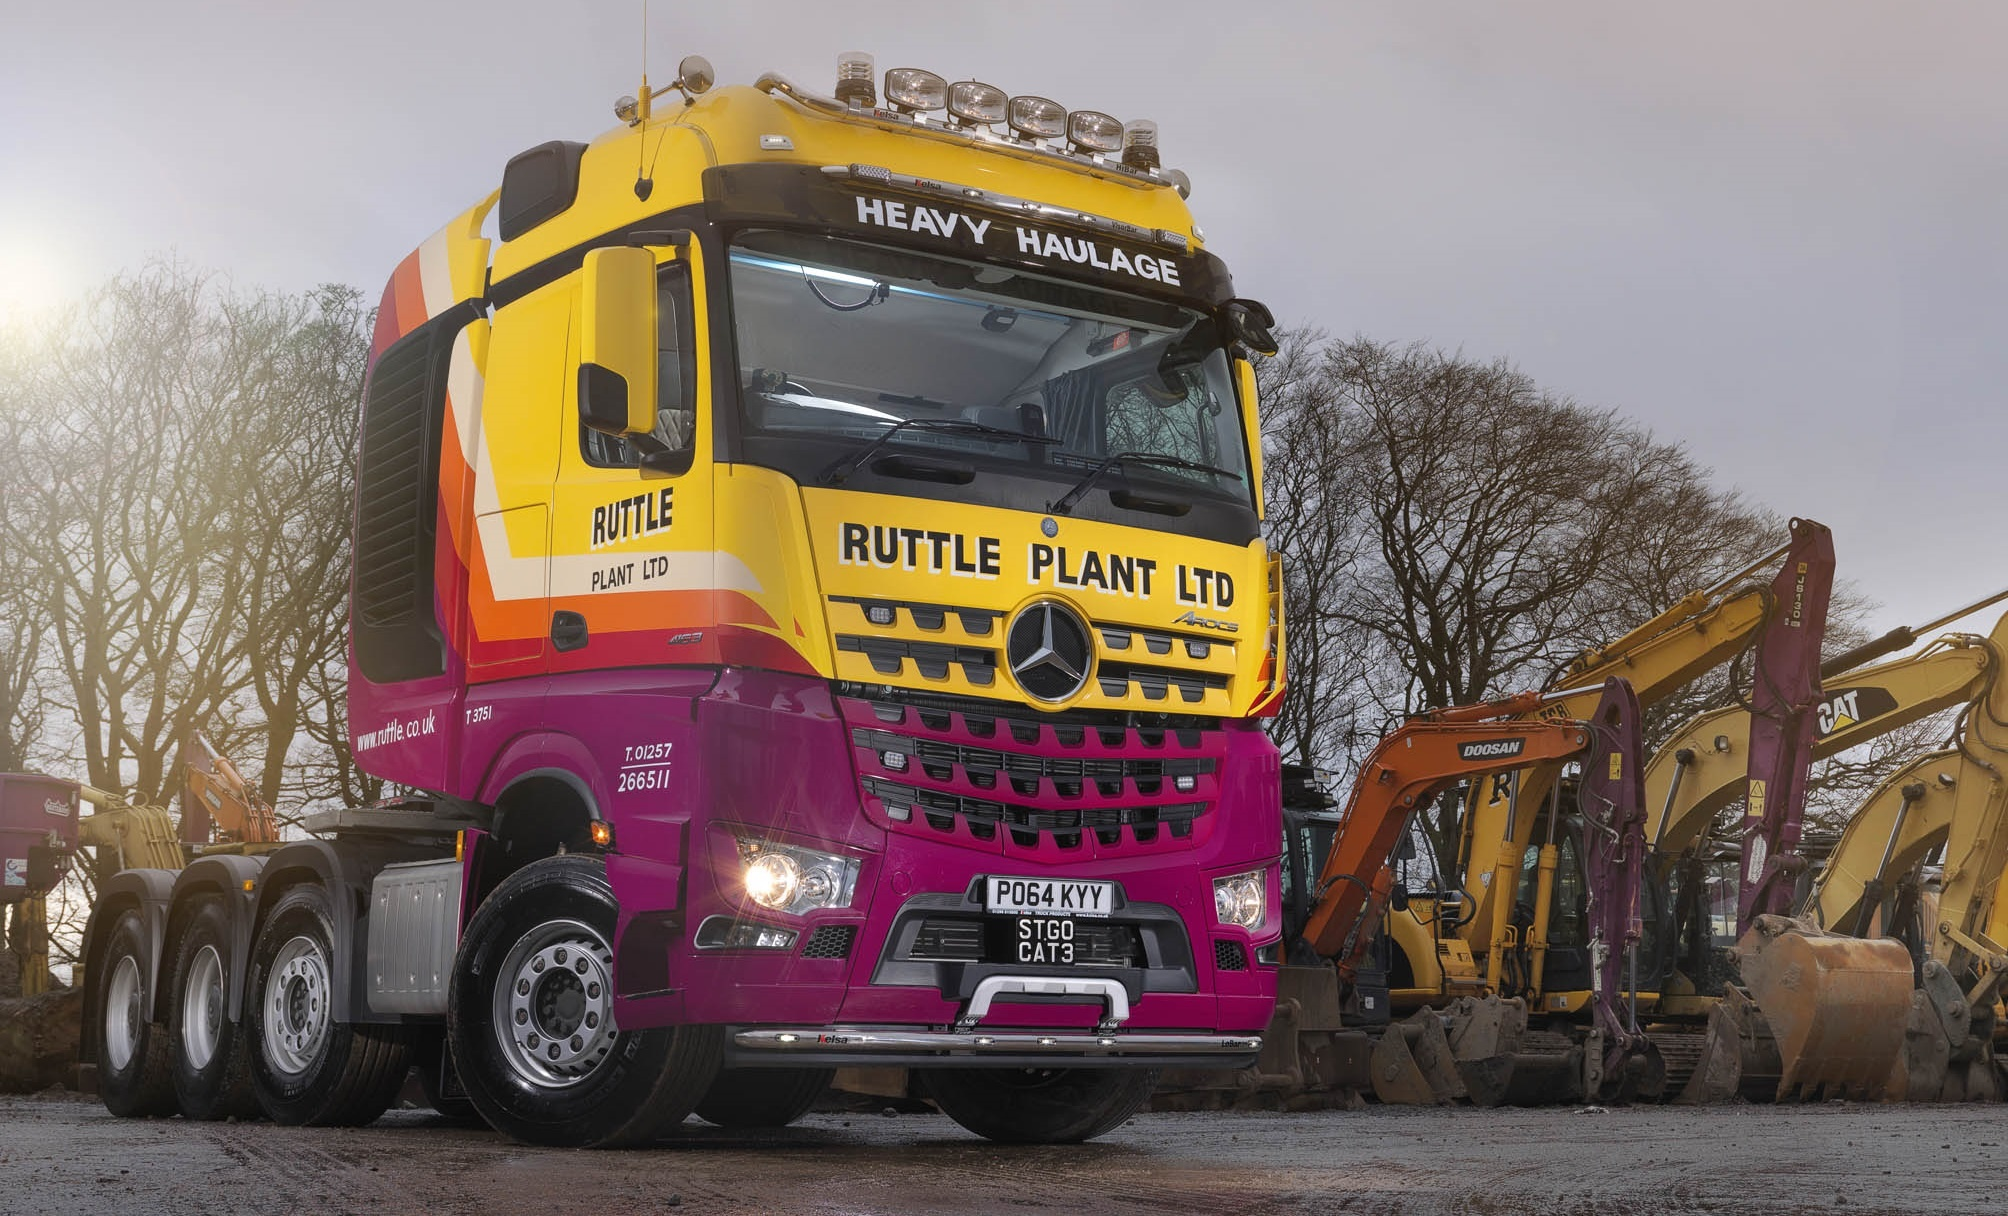heavy truck: (80, 100, 1302, 1141)
